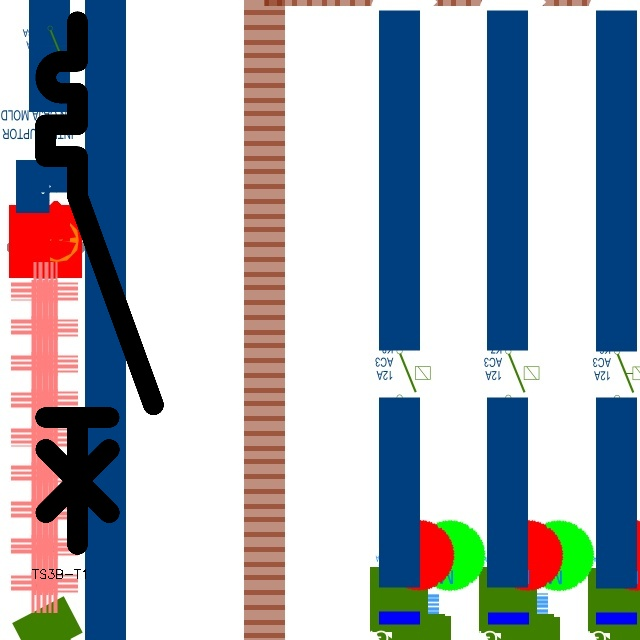interruptor_termomagnetico: (32, 8, 166, 558)
